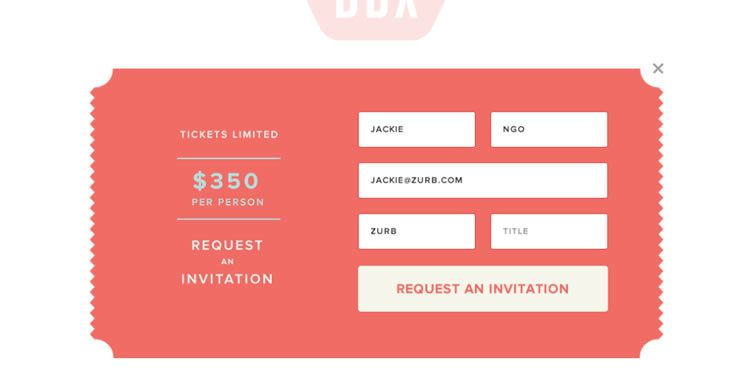_form_: (260, 1, 676, 389)
button: (357, 265, 609, 313)
field: (358, 163, 608, 199), (358, 111, 476, 148), (357, 213, 476, 249), (491, 213, 607, 249), (490, 112, 608, 147)
